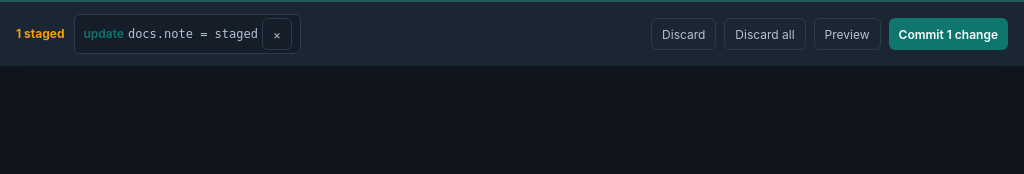
Test case: CommitBar — staged atomic commits (S02) › a binding refusal at commit keeps the draft and surfaces the state
Click the button titled "Commit all staged edits as one atomic batch". click: (948, 34)
box: [888,18,1008,50]
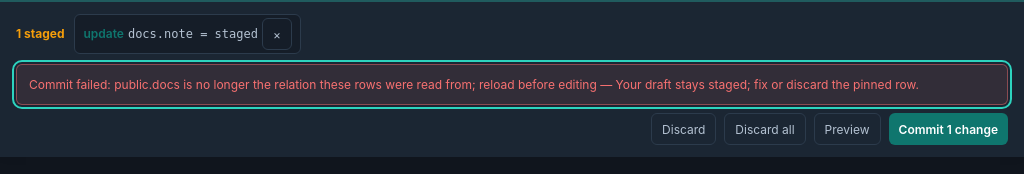
Now the message shows "no longer the relation", box [114,77,597,92]
